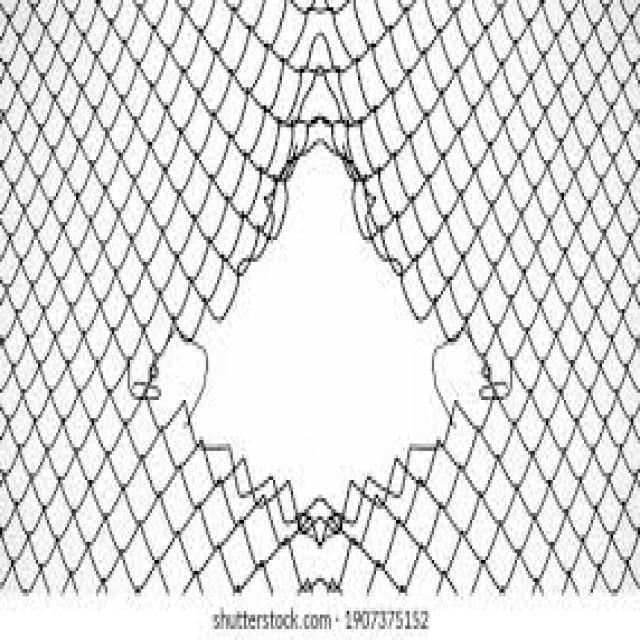fence line: (148, 140, 513, 540)
